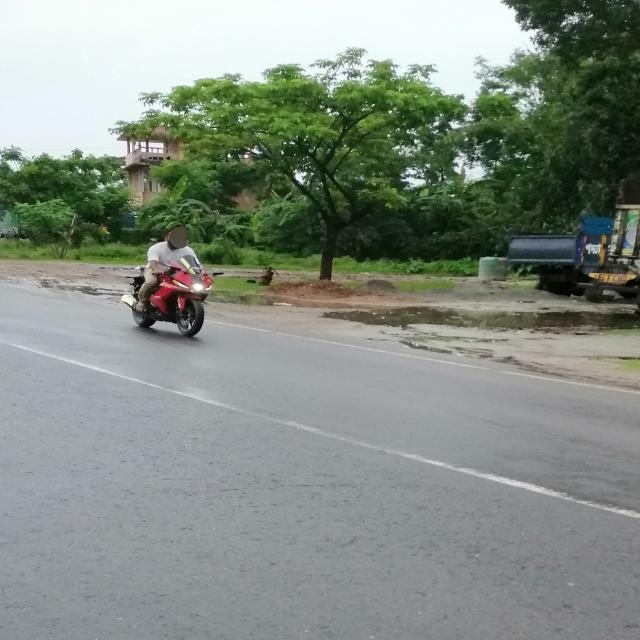Motorbike: (127, 252, 224, 347)
